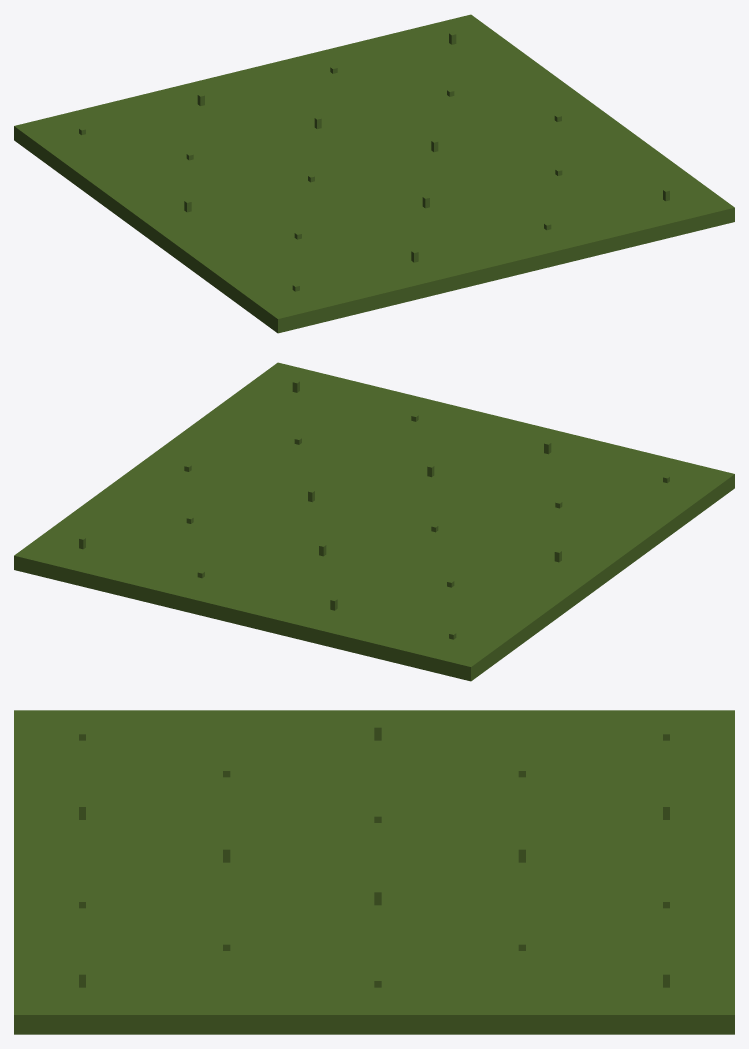
Rendered from Korean_floor_01.FBX.
The picture shows the model from 3 angles, top to bottom: view 1: azimuth 30°, elevation 25°; view 2: azimuth 150°, elevation 25°; view 3: azimuth 270°, elevation 25°; orthographic projection. The views are drawn at different scales.
Parts seen in each view (by area): view 1: Voxel_Korean_traditional village-5; view 2: Voxel_Korean_traditional village-5; view 3: Voxel_Korean_traditional village-5.
Part boxes in pixels (x1,y1,x2,y2): Voxel_Korean_traditional village-5: (14,14,734,333); Voxel_Korean_traditional village-5: (14,362,734,681); Voxel_Korean_traditional village-5: (14,710,734,1034).
Bounding box in the file's own units: 99.98 × 5 × 99.98.
1 material, 1 textured.
